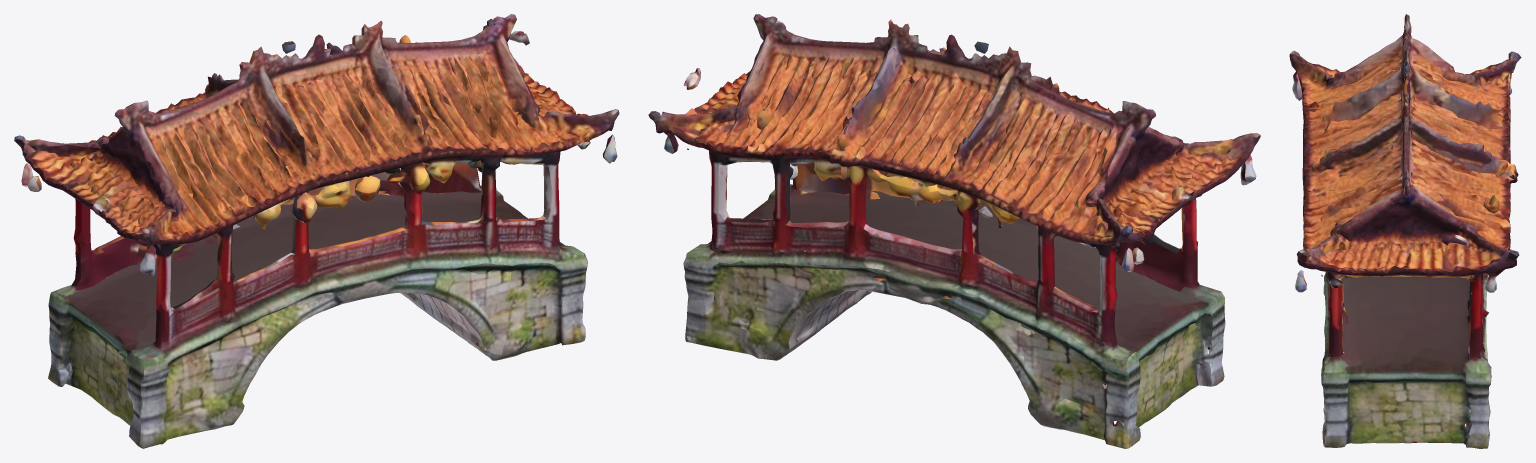
Rendered from dv-03-cau-ngoi.glb.
3 renders of one model, left to right at view 1: azimuth 30°, elevation 25°; view 2: azimuth 150°, elevation 25°; view 3: azimuth 270°, elevation 25°, orthographic. The views are drawn at different scales.
Visible parts, largest first — view 1: tmpc1uytnad.ply; view 2: tmpc1uytnad.ply; view 3: tmpc1uytnad.ply.
Boxes of the visible parts, bbox=[...] form: tmpc1uytnad.ply: bbox=[14, 14, 619, 448]; tmpc1uytnad.ply: bbox=[648, 14, 1260, 448]; tmpc1uytnad.ply: bbox=[1289, 14, 1521, 448].
Bounding box in the file's own units: 1.93 × 1.26 × 0.9364.
Materials: 1 (1 with a texture image).
